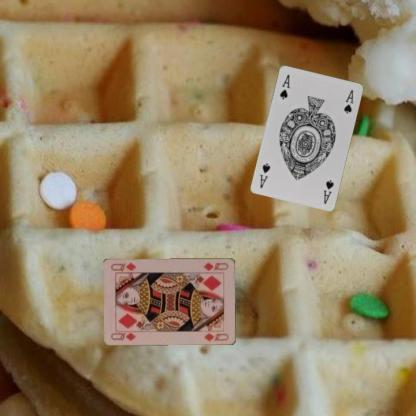As: (277, 72, 291, 100), (321, 176, 335, 204)
Qd: (108, 328, 138, 342), (201, 260, 230, 272)
